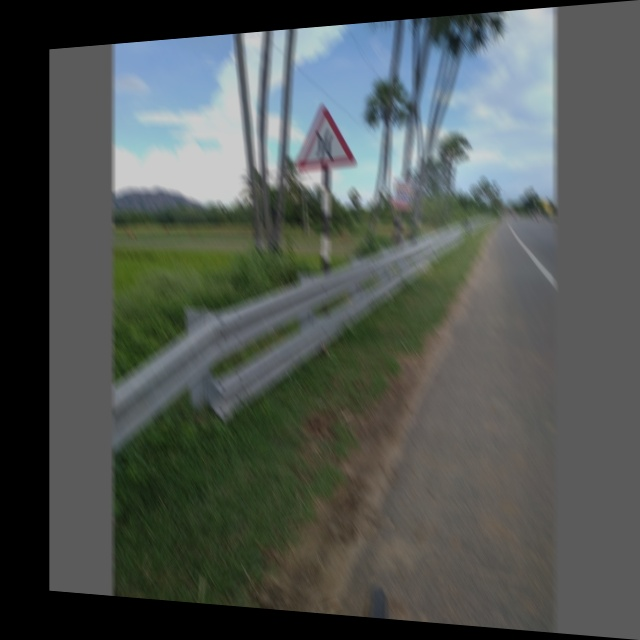Narrow_Bridge: (289, 98, 366, 175)
